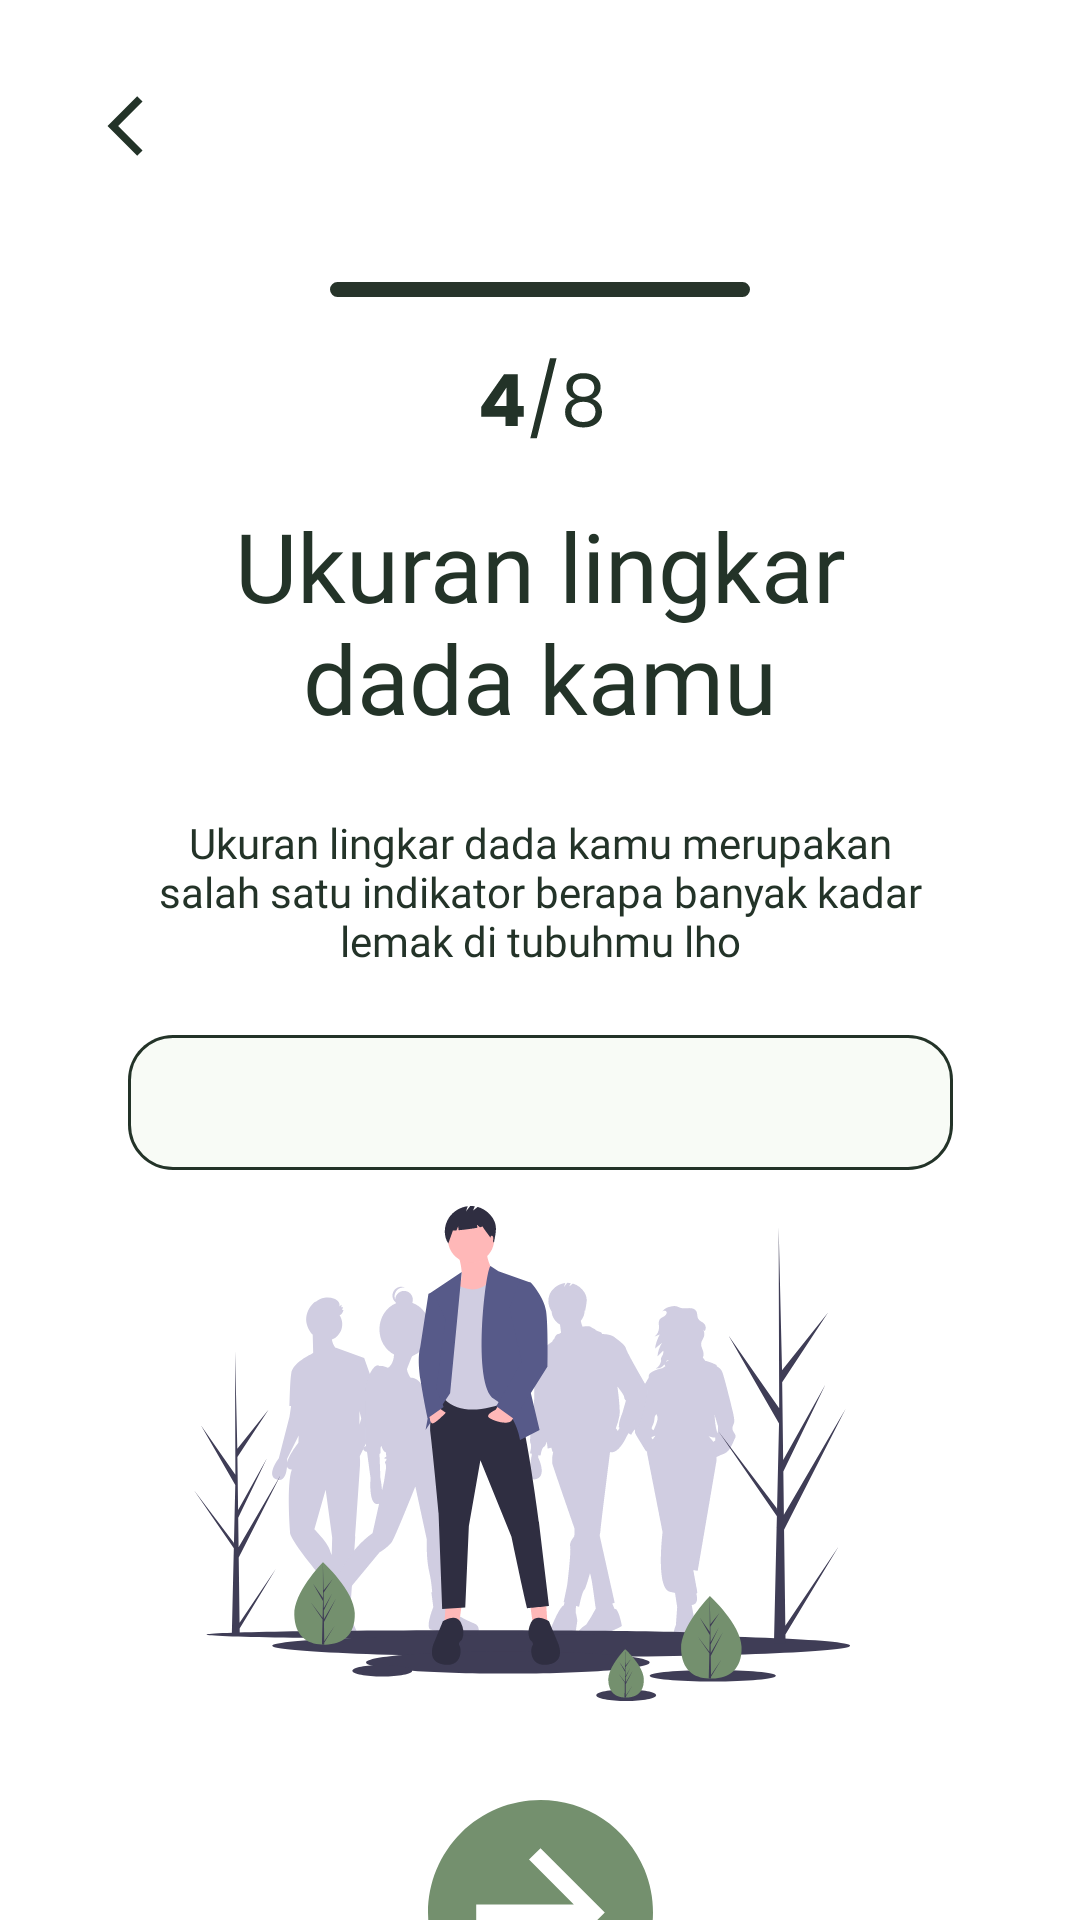

Screen size 1080*1920. Icon name, then its box in pixels as (x1, y1, x2, y2):
back: (108, 96, 143, 156)
